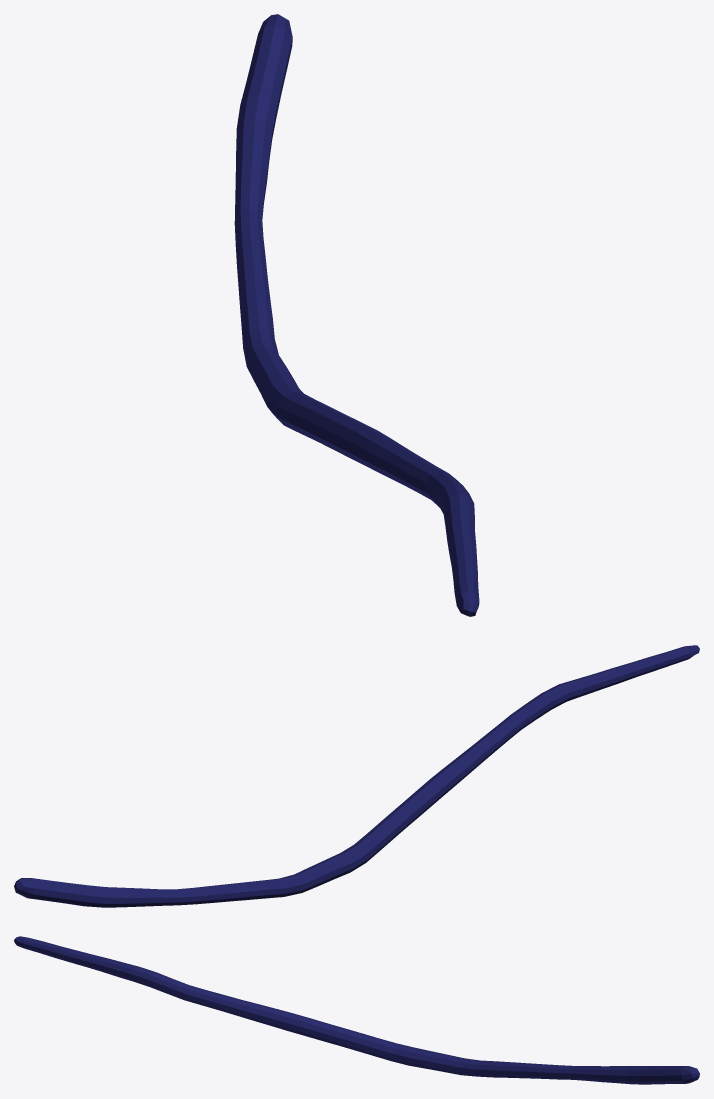
The model's file is Trochlear_nerve_R.glb.
The picture shows the model from 3 angles, top to bottom: view 1: azimuth 30°, elevation 25°; view 2: azimuth 150°, elevation 25°; view 3: azimuth 270°, elevation 25°; orthographic projection. The views are drawn at different scales.
Visible parts, largest first — view 1: Trochlear_nerve_R.001; view 2: Trochlear_nerve_R.001; view 3: Trochlear_nerve_R.001.
Boxes of the visible parts, x1=… form: Trochlear_nerve_R.001: x1=234, y1=14, x2=479, y2=616; Trochlear_nerve_R.001: x1=14, y1=645, x2=699, y2=907; Trochlear_nerve_R.001: x1=14, y1=936, x2=699, y2=1084.
Size of the model in its own units: 0.0338 by 0.0103 by 0.08.
1 material, 1 textured.
